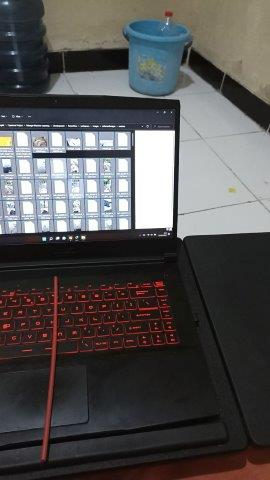sedotan: (41, 277, 58, 459)
